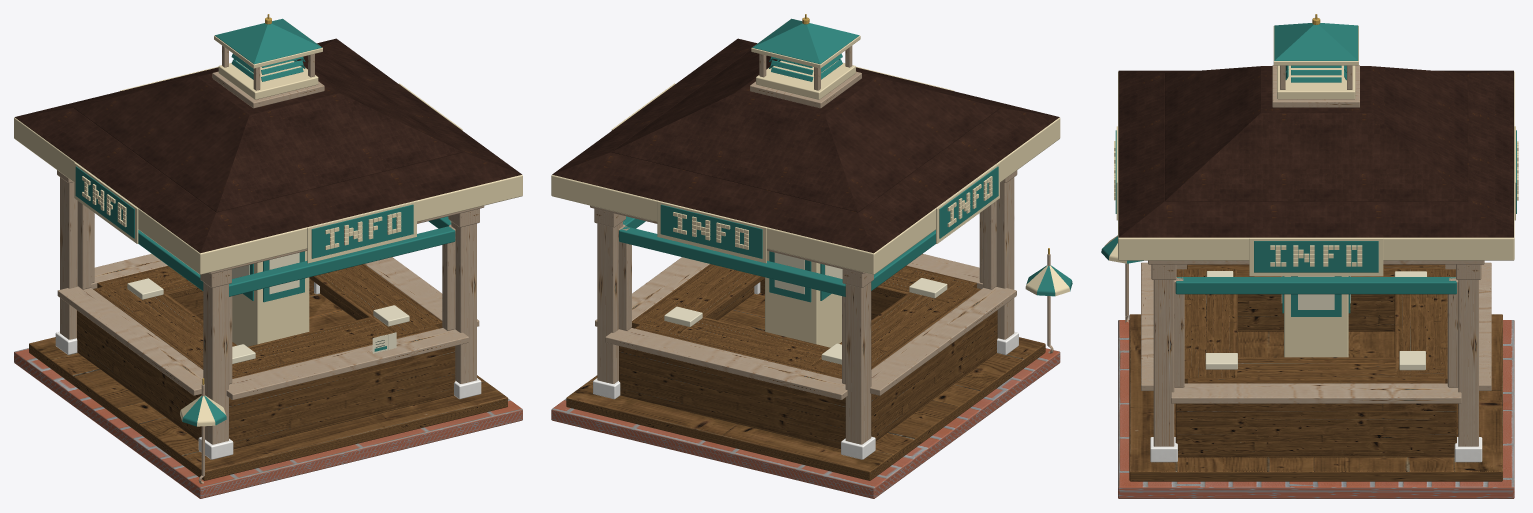
Rendered from information-kiosk.glb.
3 renders of one model, left to right at view 1: azimuth 30°, elevation 25°; view 2: azimuth 150°, elevation 25°; view 3: azimuth 270°, elevation 25°, orthographic. The views are drawn at different scales.
Visible parts, largest first — view 1: Static_GroundRoot_mat_kiosk_roof_warm, Static_Facade_Front_boards, Plinth_SteppedDeck, Static_GroundRoot_cream, Static_GroundRoot_timber, Plinth_Foundation, Static_Facade_Left_boards, Static_Facade_Front_paint_teal, Static_Facade_Front_timber, Static_Facade_Left_timber, Static_Facade_Right_boards, Cupola_RoofCap (+12 smaller); view 2: Static_GroundRoot_mat_kiosk_roof_warm, Static_Facade_Back_boards, Plinth_SteppedDeck, Static_GroundRoot_cream, Static_GroundRoot_timber, Plinth_Foundation, Static_Facade_Left_boards, Static_Facade_Back_timber, Static_Facade_Back_paint_teal, Static_Facade_Left_timber, Static_Facade_Right_boards, Cupola_RoofCap (+10 smaller); view 3: Static_GroundRoot_mat_kiosk_roof_warm, Static_Facade_Right_boards, Plinth_SteppedDeck, Static_GroundRoot_cream, Plinth_Foundation, Static_GroundRoot_timber, Static_Facade_Right_paint_teal, Static_Facade_Right_timber, Static_Facade_Left_boards, Static_Facade_Front_boards, Static_Facade_Back_boards, Cupola_RoofCap (+7 smaller).
Part boxes in pixels (x1=…): Static_GroundRoot_mat_kiosk_roof_warm: x1=15, y1=38, x2=521, y2=253; Static_Facade_Front_boards: x1=201, y1=317, x2=455, y2=449; Plinth_SteppedDeck: x1=29, y1=293, x2=507, y2=480; Static_GroundRoot_cream: x1=14, y1=25, x2=522, y2=346; Static_GroundRoot_timber: x1=57, y1=45, x2=484, y2=444; Plinth_Foundation: x1=14, y1=348, x2=522, y2=498; Static_Facade_Left_boards: x1=77, y1=284, x2=236, y2=440; Static_Facade_Front_paint_teal: x1=229, y1=204, x2=455, y2=302; Static_Facade_Front_timber: x1=226, y1=226, x2=468, y2=399; Static_Facade_Left_timber: x1=57, y1=201, x2=203, y2=395; Static_Facade_Right_boards: x1=309, y1=264, x2=442, y2=332; Cupola_RoofCap: x1=215, y1=18, x2=321, y2=64; Static_GroundRoot_mat_kiosk_roof_warm: x1=552, y1=38, x2=1059, y2=253; Static_Facade_Back_boards: x1=619, y1=316, x2=845, y2=449; Plinth_SteppedDeck: x1=566, y1=293, x2=1045, y2=480; Static_GroundRoot_cream: x1=551, y1=19, x2=1060, y2=347; Static_GroundRoot_timber: x1=590, y1=46, x2=1017, y2=444; Plinth_Foundation: x1=551, y1=348, x2=1060, y2=498; Static_Facade_Left_boards: x1=810, y1=277, x2=997, y2=440; Static_Facade_Back_timber: x1=605, y1=226, x2=847, y2=399; Static_Facade_Back_paint_teal: x1=619, y1=204, x2=845, y2=302; Static_Facade_Left_timber: x1=870, y1=201, x2=1016, y2=395; Static_Facade_Right_boards: x1=631, y1=264, x2=764, y2=333; Cupola_RoofCap: x1=752, y1=18, x2=859, y2=64; Static_GroundRoot_mat_kiosk_roof_warm: x1=1118, y1=66, x2=1513, y2=237; Static_Facade_Right_boards: x1=1175, y1=357, x2=1456, y2=457; Plinth_SteppedDeck: x1=1129, y1=314, x2=1502, y2=481; Static_GroundRoot_cream: x1=1118, y1=26, x2=1514, y2=357; Plinth_Foundation: x1=1118, y1=320, x2=1514, y2=498; Static_GroundRoot_timber: x1=1148, y1=65, x2=1484, y2=446; Static_Facade_Right_paint_teal: x1=1175, y1=241, x2=1456, y2=316; Static_Facade_Right_timber: x1=1171, y1=277, x2=1461, y2=403; Static_Facade_Left_boards: x1=1187, y1=264, x2=1445, y2=331; Static_Facade_Front_boards: x1=1176, y1=269, x2=1237, y2=383; Static_Facade_Back_boards: x1=1394, y1=269, x2=1455, y2=383; Cupola_RoofCap: x1=1274, y1=23, x2=1358, y2=60.
Size of the model in its own units: 3.62 by 3.84 by 3.62.
Materials: 10 (5 with a texture image).
